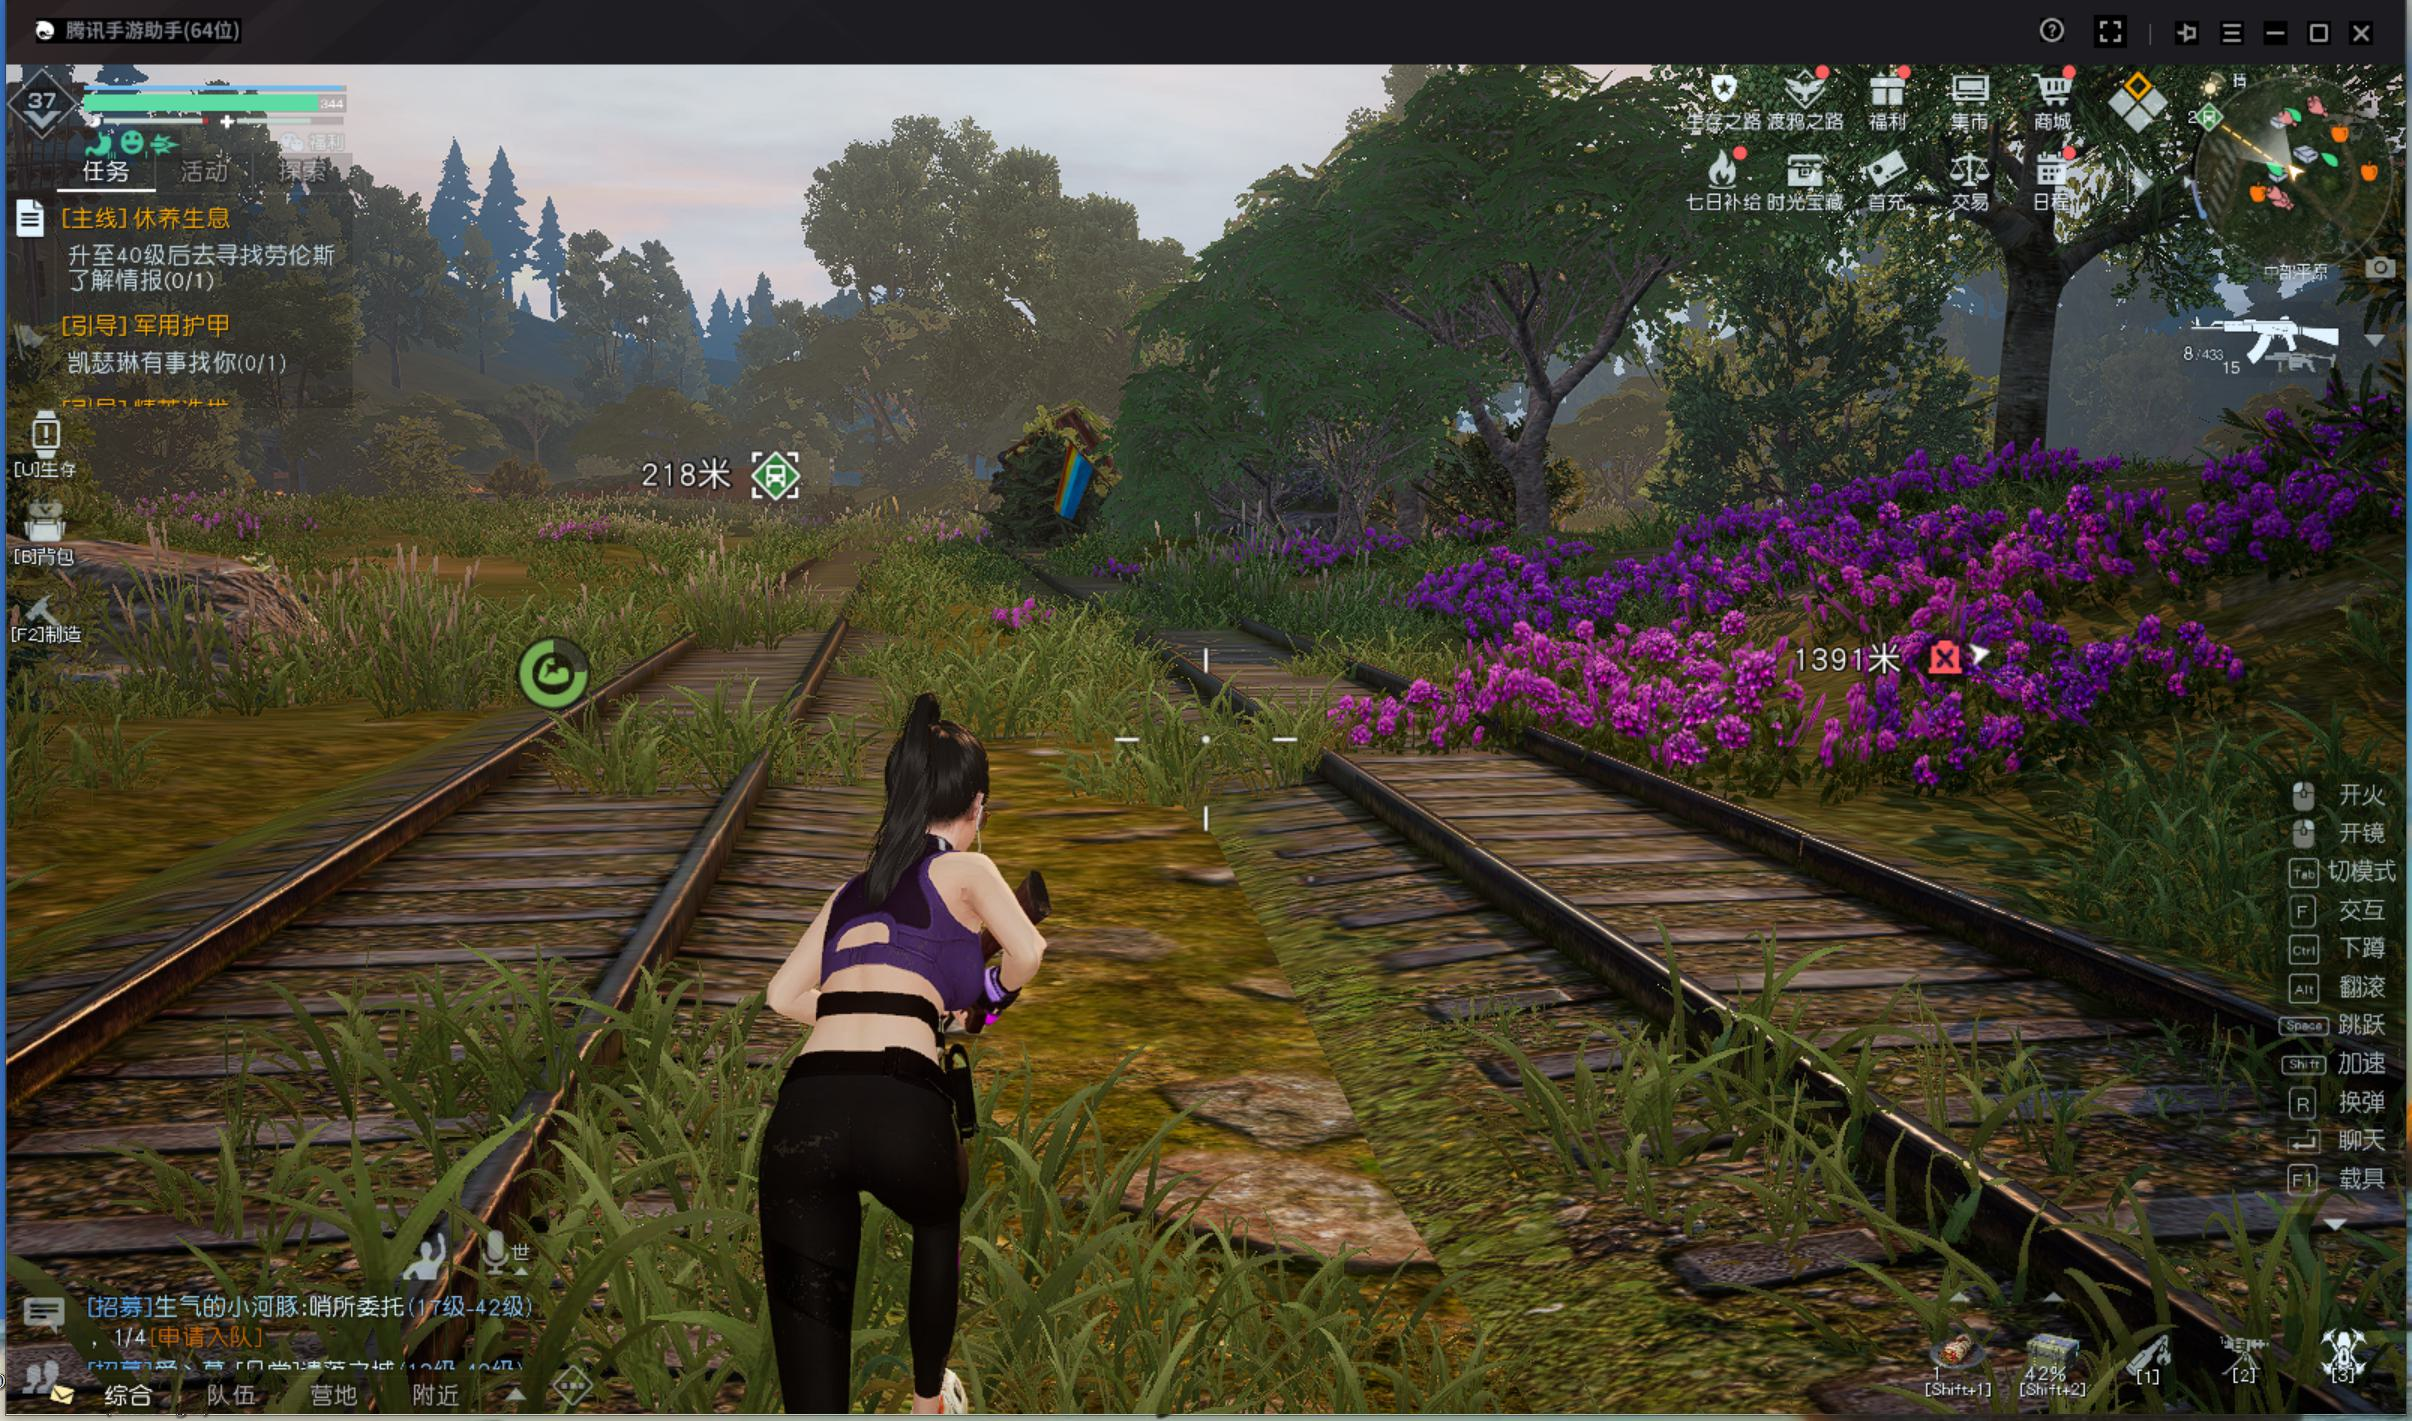tree: (1984, 267, 2060, 469), (1483, 404, 1563, 551)
